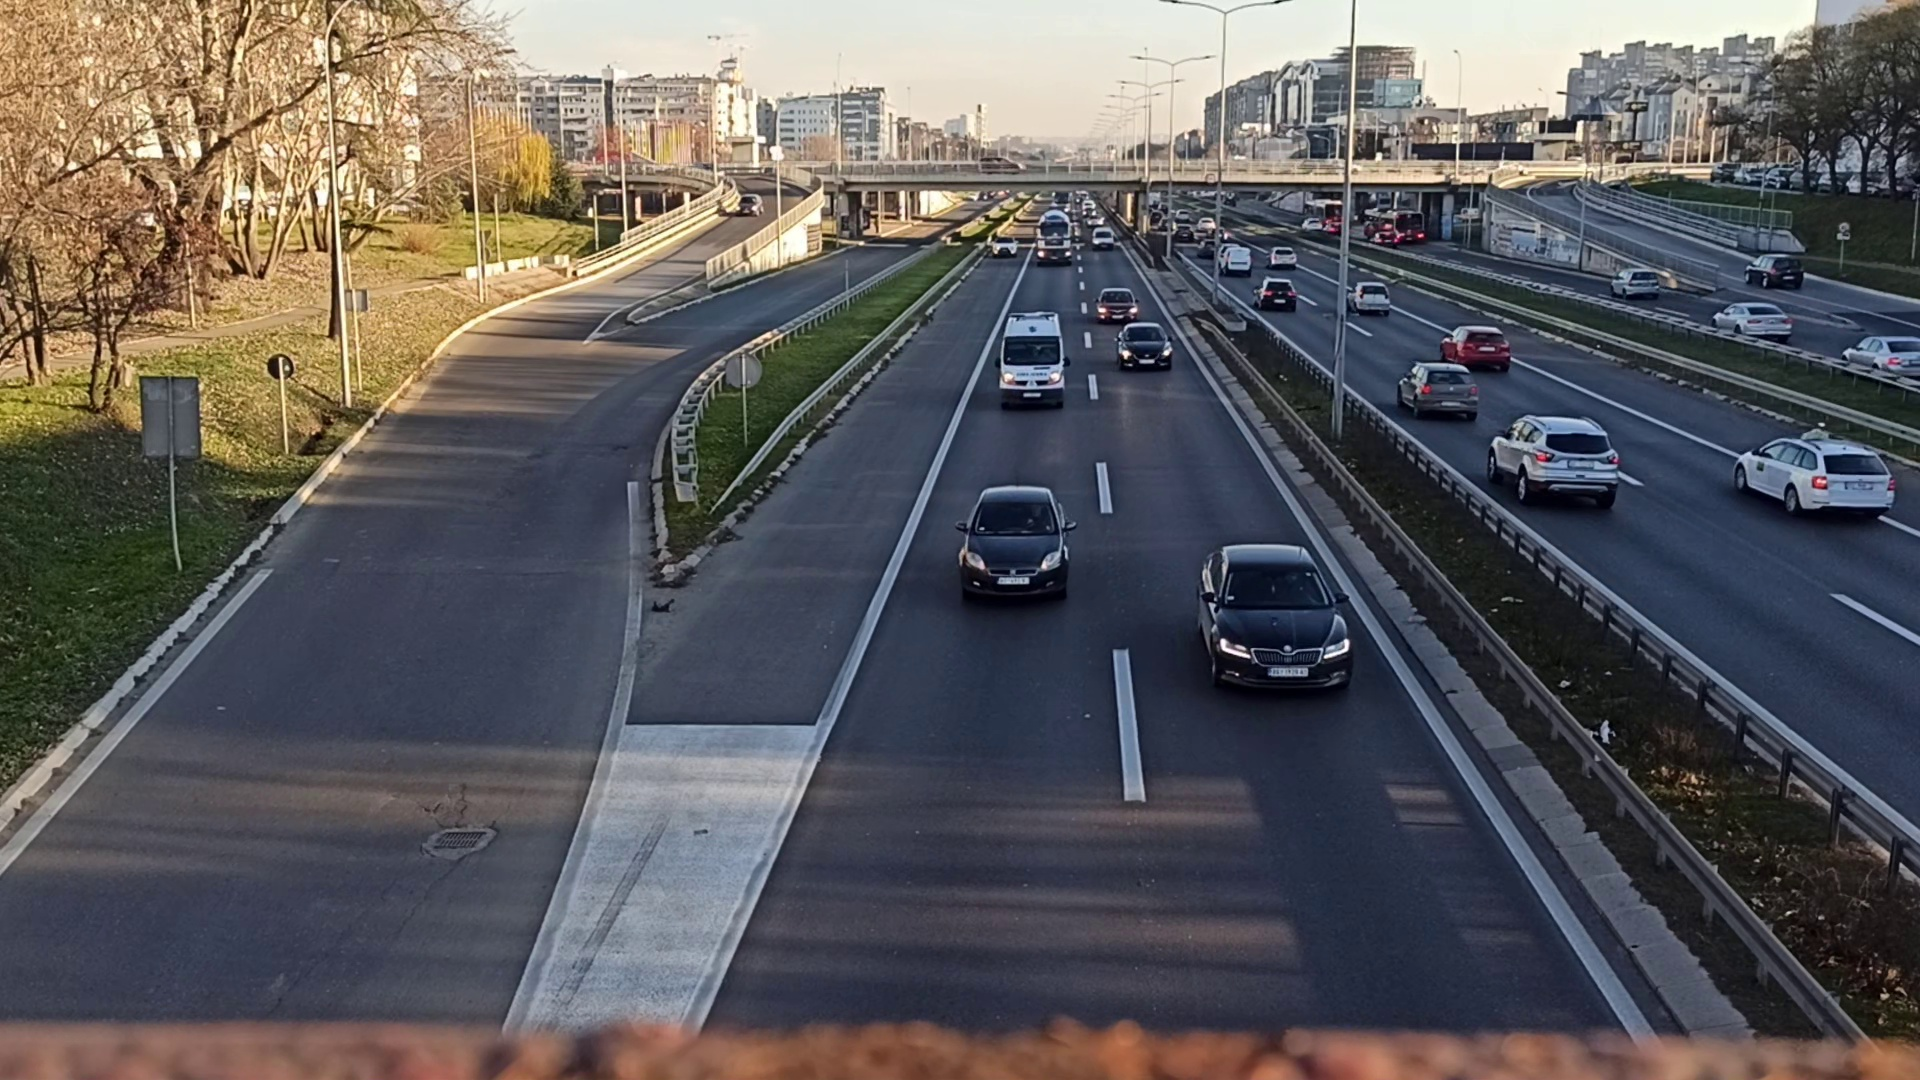car: (1197, 543, 1346, 699), (1735, 431, 1895, 517), (961, 481, 1069, 607), (1481, 418, 1626, 510), (1393, 361, 1481, 417), (1437, 324, 1510, 372), (1116, 319, 1175, 371), (1093, 287, 1135, 320)
truck: (1035, 210, 1075, 262)
van: (996, 305, 1069, 411)
